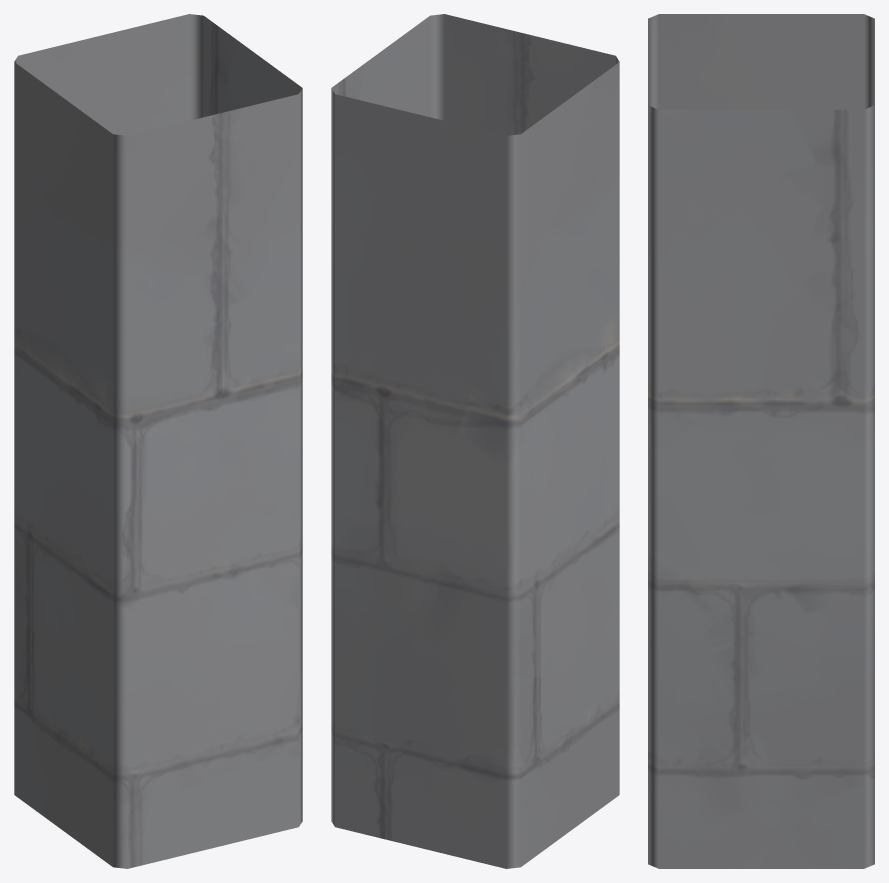
The model's file is SM_Column_1mVar2.fbx.
3 views of the same model, side by side, from view 1: azimuth 30°, elevation 25°; view 2: azimuth 150°, elevation 25°; view 3: azimuth 270°, elevation 25° (orthographic). The views are drawn at different scales.
Visible parts, largest first — view 1: SM_Column_1mVar2; view 2: SM_Column_1mVar2; view 3: SM_Column_1mVar2.
Boxes of the visible parts, x1,y1,x2,y2 form: SM_Column_1mVar2: (14, 14, 302, 868); SM_Column_1mVar2: (331, 14, 619, 868); SM_Column_1mVar2: (648, 14, 874, 868).
Size of the model in its own units: 0.2707 by 1 by 0.2707.
